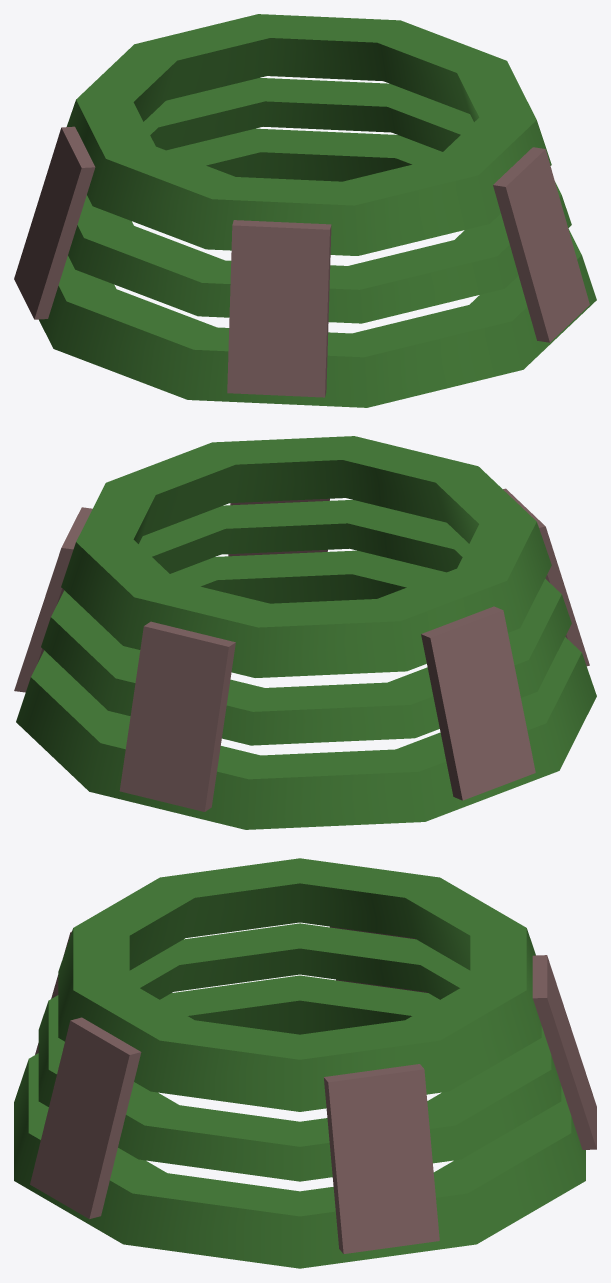
Rendered from Chandelier.fbx.
The picture shows the model from 3 angles, top to bottom: view 1: azimuth 30°, elevation 25°; view 2: azimuth 150°, elevation 25°; view 3: azimuth 270°, elevation 25°; orthographic projection. The views are drawn at different scales.
Parts seen in each view (by area): view 1: pCylinder1, pCube4, pCube3, pCube5; view 2: pCylinder1, pCube1, pCube5, pCube2, pCube4, pCube3; view 3: pCylinder1, pCube2, pCube3, pCube1.
Part boxes in pixels (box(x1,y1,x2,y2)): pCylinder1: box(38, 14, 596, 407); pCube4: box(227, 220, 331, 397); pCube3: box(493, 147, 589, 342); pCube5: box(14, 126, 95, 319); pCylinder1: box(16, 436, 596, 829); pCube1: box(119, 621, 235, 811); pCube5: box(421, 606, 535, 800); pCube2: box(14, 507, 92, 692); pCube4: box(503, 488, 589, 666); pCube3: box(228, 498, 329, 556); pCylinder1: box(14, 858, 585, 1268); pCube2: box(323, 1064, 439, 1253); pCube3: box(30, 1017, 141, 1218); pCube1: box(532, 955, 596, 1149).
Bounding box in the file's own units: 8.71 × 2.92 × 8.45.
